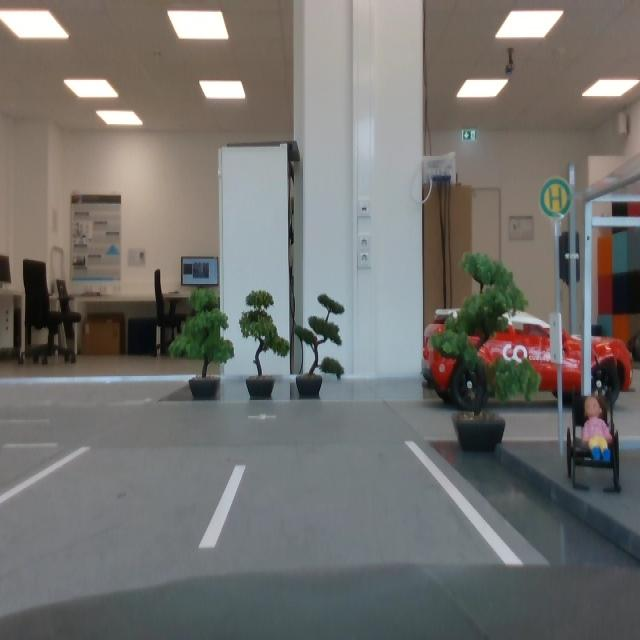car: (421, 306, 634, 413)
person: (581, 396, 614, 462)
potted plant: (433, 250, 543, 450), (168, 287, 235, 399), (239, 289, 291, 398), (294, 293, 345, 397)
traffic light: (559, 231, 581, 288)
